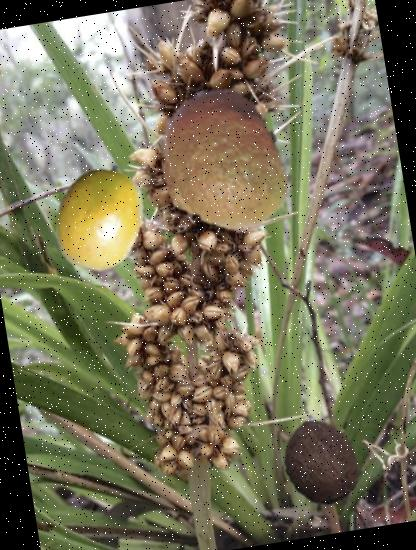Cocos: (268, 410, 374, 516)
Mandarine: (138, 78, 306, 246)
Maracuja: (36, 156, 162, 280)
